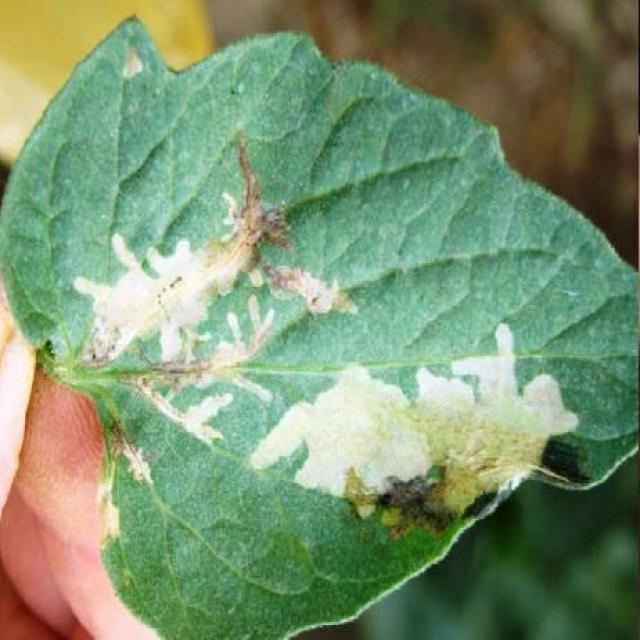Tomato target spot leaf: (0, 16, 640, 640)
